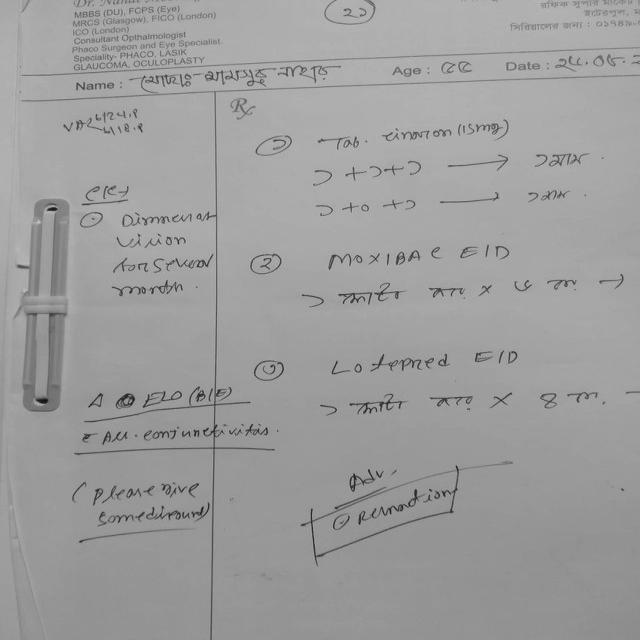Cinaron: (378, 119, 458, 148)
Lotepred: (317, 330, 460, 383)
Moxibac: (319, 244, 450, 276)
